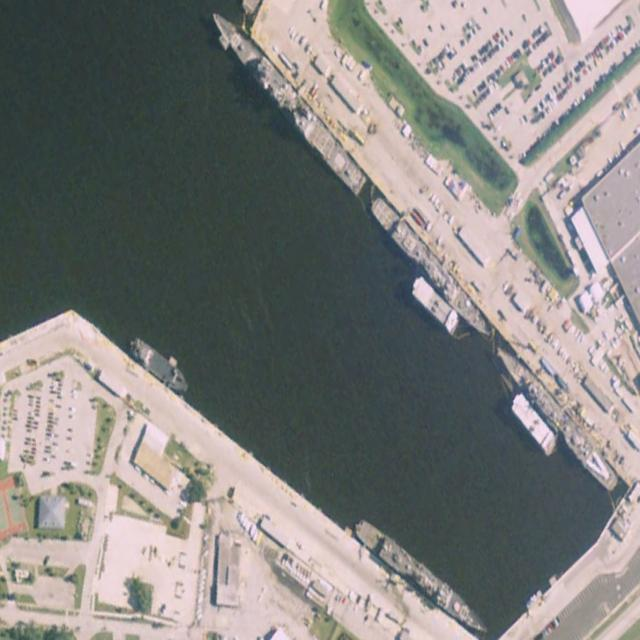Cruiser: (207, 2, 369, 199)
Frigate: (488, 336, 622, 498), (367, 189, 495, 345)
Other Ship: (125, 331, 195, 401)
Other Warship: (349, 511, 493, 640)
